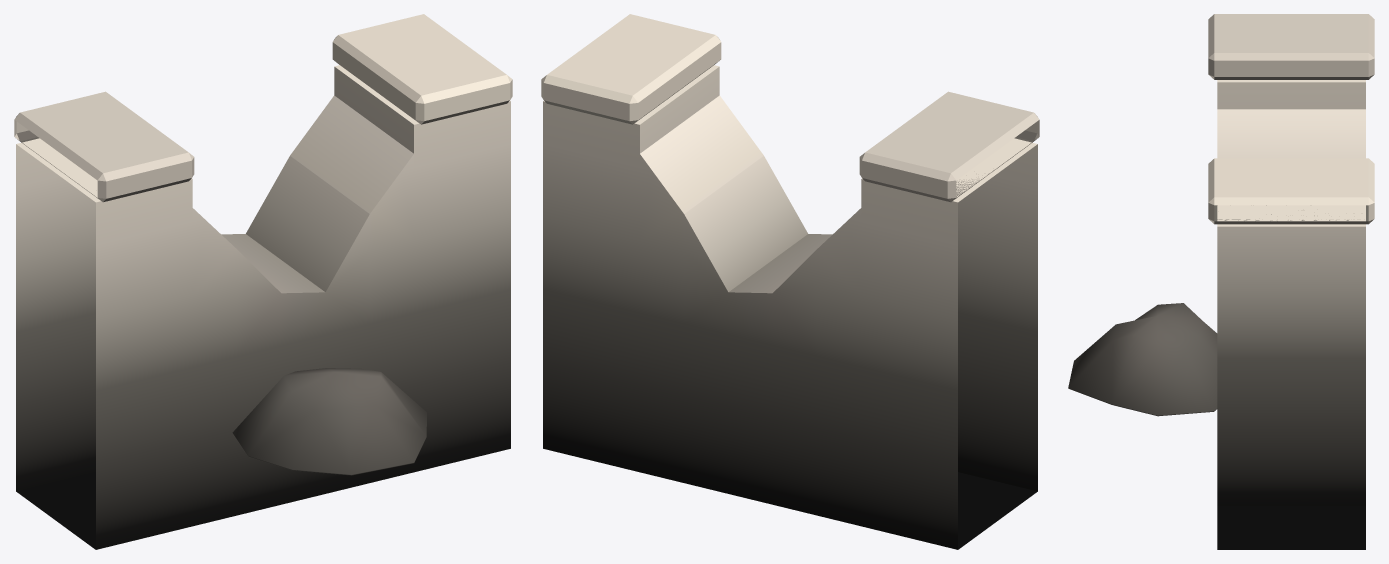
The model's file is SM_VKI_Wall_Ancient_Collapsed_150_Cut.fbx.
3 views of the same model, side by side, from view 1: azimuth 30°, elevation 25°; view 2: azimuth 150°, elevation 25°; view 3: azimuth 270°, elevation 25° (orthographic). The views are drawn at different scales.
Visible parts, largest first — view 1: SM_VKI_Wall_Ancient_Collapsed_150_Cut.001; view 2: SM_VKI_Wall_Ancient_Collapsed_150_Cut.001; view 3: SM_VKI_Wall_Ancient_Collapsed_150_Cut.001.
Boxes of the visible parts, x1,y1,x2,y2 form: SM_VKI_Wall_Ancient_Collapsed_150_Cut.001: (14,14,512,549); SM_VKI_Wall_Ancient_Collapsed_150_Cut.001: (541,14,1039,549); SM_VKI_Wall_Ancient_Collapsed_150_Cut.001: (1068,14,1374,549).
Size of the model in its own units: 1.5 by 1.3 by 1.03.
